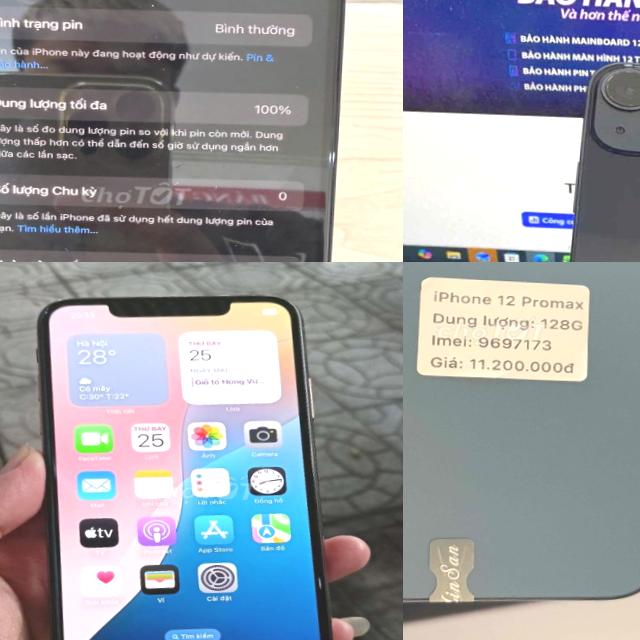gen_12_13: (403, 262, 640, 614), (559, 54, 640, 262)
gen_15: (0, 0, 355, 262)
gen_x_xs: (0, 283, 377, 640)
scratch: (304, 569, 336, 598), (40, 295, 62, 324)
